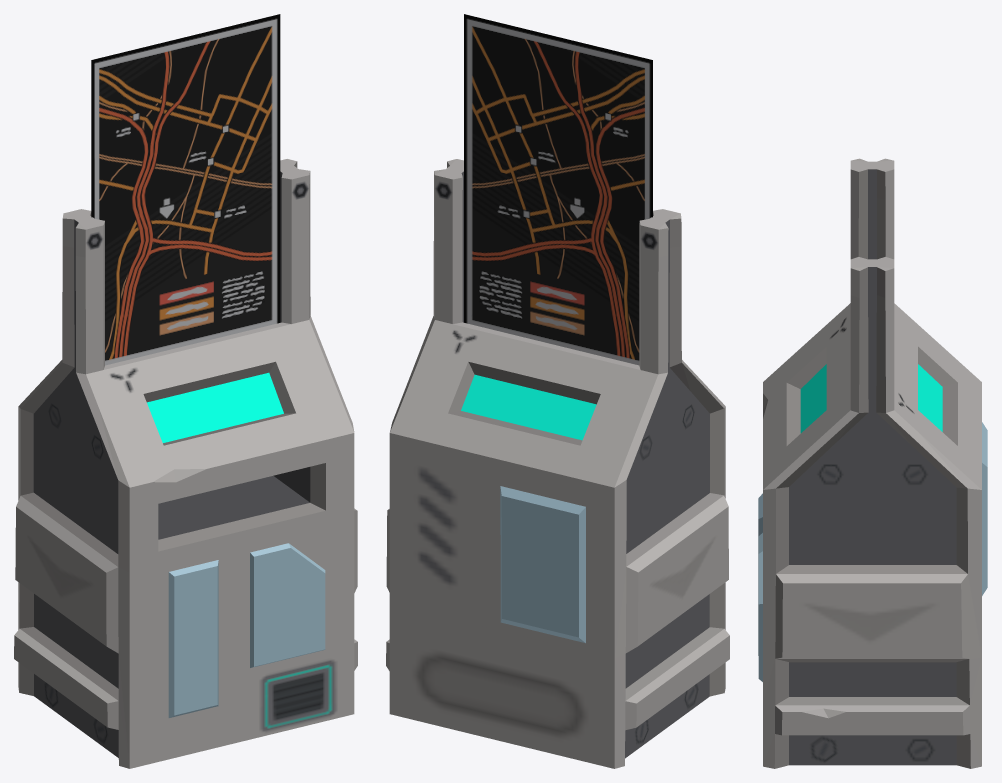
Rendered from SM_Prop_Trash_Bin_01.fbx.
3 views of the same model, side by side, from view 1: azimuth 30°, elevation 25°; view 2: azimuth 150°, elevation 25°; view 3: azimuth 270°, elevation 25° (orthographic).
Visible parts, largest first — view 1: SM_Prop_Trash_Bin_01; view 2: SM_Prop_Trash_Bin_01; view 3: SM_Prop_Trash_Bin_01.
Boxes of the visible parts, bbox=[...] form: SM_Prop_Trash_Bin_01: bbox=[14, 14, 357, 768]; SM_Prop_Trash_Bin_01: bbox=[386, 14, 729, 768]; SM_Prop_Trash_Bin_01: bbox=[758, 158, 987, 768].
Bounding box in the file's own units: 83.23 × 210 × 66.87.
